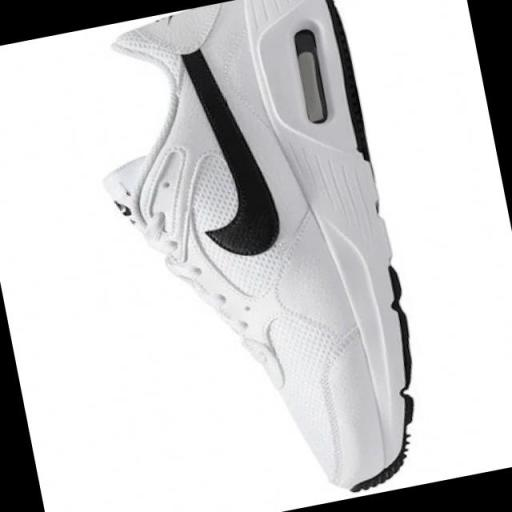Nike: (164, 23, 290, 270)
